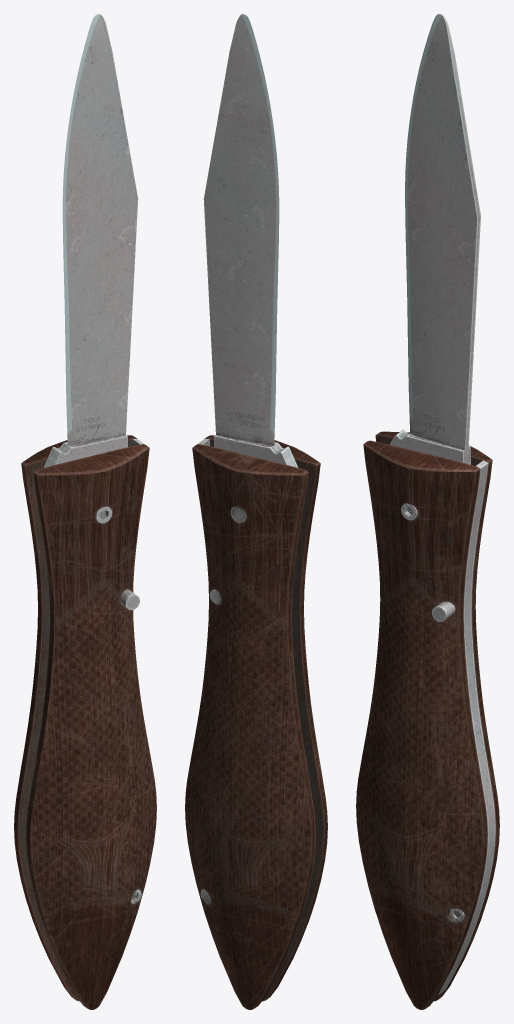
Rendered from fish_knife.glb.
3 renders of one model, left to right at view 1: azimuth 30°, elevation 25°; view 2: azimuth 150°, elevation 25°; view 3: azimuth 330°, elevation 25°, orthographic.
Parts seen in each view (by area): view 1: fish_knife_handle; view 2: fish_knife_handle; view 3: fish_knife_handle.
Boxes of the visible parts, bbox=[...] form: fish_knife_handle: bbox=[14, 14, 156, 1009]; fish_knife_handle: bbox=[185, 14, 327, 1009]; fish_knife_handle: bbox=[356, 14, 499, 1009].
Bounding box in the file's own units: 0.029 × 0.2157 × 0.0162.
1 material, 1 textured.
